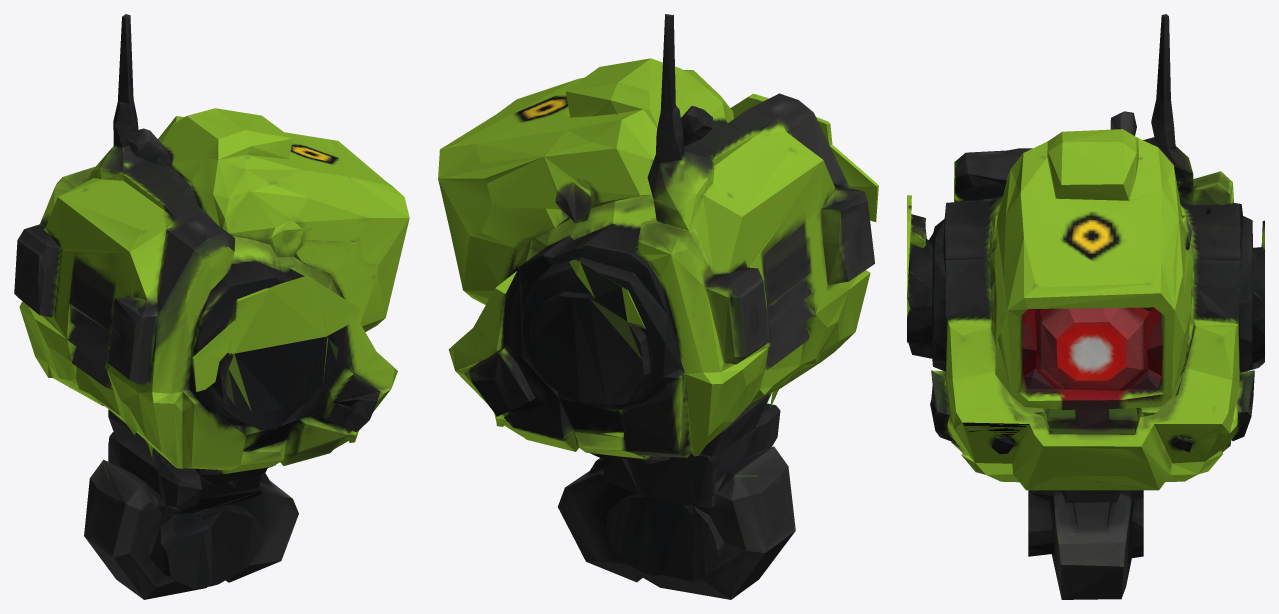
Rendered from SM_ShooterDebris_Torso.fbx.
3 renders of one model, left to right at view 1: azimuth 30°, elevation 25°; view 2: azimuth 150°, elevation 25°; view 3: azimuth 270°, elevation 25°, orthographic. The views are drawn at different scales.
Parts seen in each view (by area): view 1: SM_ShooterDebris_Torso; view 2: SM_ShooterDebris_Torso; view 3: SM_ShooterDebris_Torso.
Part boxes in pixels (x1,y1,x2,y2): SM_ShooterDebris_Torso: [14, 14, 409, 599]; SM_ShooterDebris_Torso: [438, 14, 878, 599]; SM_ShooterDebris_Torso: [907, 14, 1264, 599].
Size of the model in its own units: 60.48 by 105 by 62.
Materials: 1 (1 with a texture image).
